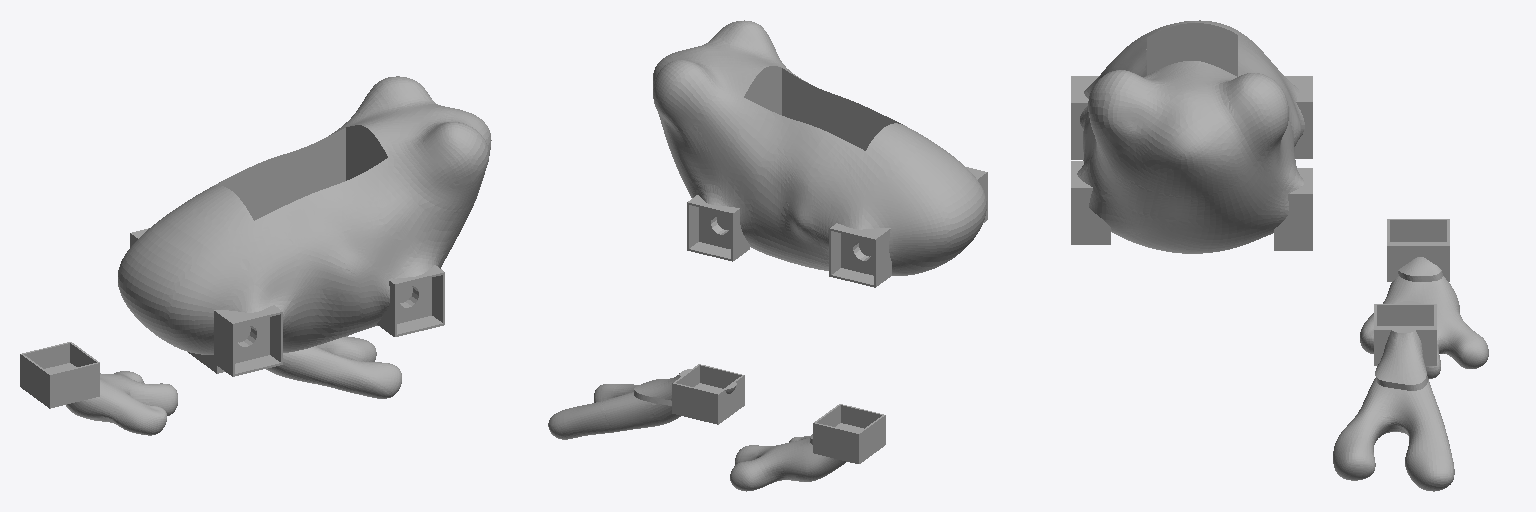
URDF robot description (FrogBot3_top-FrogBot3-z-1_bottom-FrogBot3-z-1):
<?xml version="1.0" ?>
<robot name="FrogBot3_top-FrogBot3-z-1_bottom-FrogBot3-z-1">

<material name="pla_5_percent_infill">
  <color rgba="0.700 0.700 0.700 1.000"/>
</material>

<link name="base_link">
  <inertial>
    <origin xyz="0 0 0" rpy="0 0 0"/>
    <mass value="1.5419899792307459"/>
    <inertia ixx="0.0054836076661745285" iyy="0.013703915460827342" izz="0.013742849788882953" ixy="5.961000823851627e-05" iyz="4.9944941207841843e-05" ixz="-0.0023657822822012154"/>
  </inertial>
  <visual>
    <origin xyz="0 0 0" rpy="0 0 0"/>
    <geometry>
      <mesh filename="simple_meshes/base_link.stl" scale="0.001 0.001 0.001"/>
    </geometry>
    <material name="pla_5_percent_infill"/>
  </visual>
  <collision>
    <origin xyz="0 0 0" rpy="0 0 0"/>
    <geometry>
      <mesh filename="simple_meshes/base_link.stl" scale="0.001 0.001 0.001"/>
    </geometry>
  </collision>
</link>

<link name="body_1_0_1">
  <inertial>
    <origin xyz="-0.065859 -0.113451 -0.001976" rpy="0 0 0"/>
    <mass value="0.03741674010202097"/>
    <inertia ixx="2.6069707017078113e-05" iyy="4.059220278075239e-05" izz="2.481412179690303e-05" ixy="3.034660637901384e-06" iyz="3.089286146108419e-06" ixz="-1.2106340481407895e-05"/>
  </inertial>
  <visual>
    <origin xyz="-0.065859 -0.113451 -0.001976" rpy="0 0 0"/>
    <geometry>
      <mesh filename="simple_meshes/body_1_0_1.stl" scale="0.001 0.001 0.001"/>
    </geometry>
    <material name="pla_5_percent_infill"/>
  </visual>
  <collision>
    <origin xyz="-0.065859 -0.113451 -0.001976" rpy="0 0 0"/>
    <geometry>
      <mesh filename="simple_meshes/body_1_0_1.stl" scale="0.001 0.001 0.001"/>
    </geometry>
  </collision>
</link>

<link name="body_1_1_1">
  <inertial>
    <origin xyz="0.083929 -0.113451 -0.010696" rpy="0 0 0"/>
    <mass value="0.05596785139093219"/>
    <inertia ixx="3.8950271948593905e-05" iyy="7.246335240166562e-05" izz="4.984256470758801e-05" ixy="6.240169770640493e-06" iyz="8.038428714410523e-06" ixz="-2.1240072640874686e-05"/>
  </inertial>
  <visual>
    <origin xyz="0.083929 -0.113451 -0.010696" rpy="0 0 0"/>
    <geometry>
      <mesh filename="simple_meshes/body_1_1_1.stl" scale="0.001 0.001 0.001"/>
    </geometry>
    <material name="pla_5_percent_infill"/>
  </visual>
  <collision>
    <origin xyz="0.083929 -0.113451 -0.010696" rpy="0 0 0"/>
    <geometry>
      <mesh filename="simple_meshes/body_1_1_1.stl" scale="0.001 0.001 0.001"/>
    </geometry>
  </collision>
</link>

<link name="body_1_2_1">
  <inertial>
    <origin xyz="-0.060736 0.113451 -0.005366" rpy="0 0 0"/>
    <mass value="0.03942710446627524"/>
    <inertia ixx="2.9172615536055555e-05" iyy="4.292413068544017e-05" izz="2.500179469826138e-05" ixy="-3.3746104126488653e-06" iyz="-4.505854574327371e-06" ixz="-1.2859303295323345e-05"/>
  </inertial>
  <visual>
    <origin xyz="-0.060736 0.113451 -0.005366" rpy="0 0 0"/>
    <geometry>
      <mesh filename="simple_meshes/body_1_2_1.stl" scale="0.001 0.001 0.001"/>
    </geometry>
    <material name="pla_5_percent_infill"/>
  </visual>
  <collision>
    <origin xyz="-0.060736 0.113451 -0.005366" rpy="0 0 0"/>
    <geometry>
      <mesh filename="simple_meshes/body_1_2_1.stl" scale="0.001 0.001 0.001"/>
    </geometry>
  </collision>
</link>

<link name="body_1_3_1">
  <inertial>
    <origin xyz="0.093982 0.113451 -0.005431" rpy="0 0 0"/>
    <mass value="0.055523619344930004"/>
    <inertia ixx="3.509387931941886e-05" iyy="6.109889868985115e-05" izz="4.291419328865745e-05" ixy="-4.41340806530484e-06" iyz="-6.895823467725602e-06" ixz="-1.5431870046110266e-05"/>
  </inertial>
  <visual>
    <origin xyz="0.093982 0.113451 -0.005431" rpy="0 0 0"/>
    <geometry>
      <mesh filename="simple_meshes/body_1_3_1.stl" scale="0.001 0.001 0.001"/>
    </geometry>
    <material name="pla_5_percent_infill"/>
  </visual>
  <collision>
    <origin xyz="0.093982 0.113451 -0.005431" rpy="0 0 0"/>
    <geometry>
      <mesh filename="simple_meshes/body_1_3_1.stl" scale="0.001 0.001 0.001"/>
    </geometry>
  </collision>
</link>

<link name="body_2_0_1">
  <inertial>
    <origin xyz="-0.026166 -0.164707 0.087895" rpy="0 0 0"/>
    <mass value="0.08212549482726689"/>
    <inertia ixx="6.259533117840277e-05" iyy="0.0001801046800443979" izz="0.00018989442677949447" ixy="3.5552050180814258e-06" iyz="-2.560244609915198e-06" ixz="5.428791878665448e-05"/>
  </inertial>
  <visual>
    <origin xyz="-0.026166 -0.164707 0.087895" rpy="0 0 0"/>
    <geometry>
      <mesh filename="simple_meshes/body_2_0_1.stl" scale="0.001 0.001 0.001"/>
    </geometry>
    <material name="pla_5_percent_infill"/>
  </visual>
  <collision>
    <origin xyz="-0.026166 -0.164707 0.087895" rpy="0 0 0"/>
    <geometry>
      <mesh filename="simple_meshes/body_2_0_1.stl" scale="0.001 0.001 0.001"/>
    </geometry>
  </collision>
</link>

<link name="body_2_1_1">
  <inertial>
    <origin xyz="0.127747 -0.174737 0.087895" rpy="0 0 0"/>
    <mass value="0.07037281159590891"/>
    <inertia ixx="4.372583407962708e-05" iyy="8.766579306740104e-05" izz="9.642875067244908e-05" ixy="-9.132109387501247e-06" iyz="2.7452038159905216e-06" ixz="2.745540461864958e-05"/>
  </inertial>
  <visual>
    <origin xyz="0.127747 -0.174737 0.087895" rpy="0 0 0"/>
    <geometry>
      <mesh filename="simple_meshes/body_2_1_1.stl" scale="0.001 0.001 0.001"/>
    </geometry>
    <material name="pla_5_percent_infill"/>
  </visual>
  <collision>
    <origin xyz="0.127747 -0.174737 0.087895" rpy="0 0 0"/>
    <geometry>
      <mesh filename="simple_meshes/body_2_1_1.stl" scale="0.001 0.001 0.001"/>
    </geometry>
  </collision>
</link>

<link name="body_2_2_1">
  <inertial>
    <origin xyz="-0.021708 0.167525 0.087895" rpy="0 0 0"/>
    <mass value="0.08191712210960615"/>
    <inertia ixx="6.193853795956588e-05" iyy="0.00017608128087884777" izz="0.00018585761325109248" ixy="2.2348060419751826e-06" iyz="-1.4472402590478065e-06" ixz="5.3016551632472904e-05"/>
  </inertial>
  <visual>
    <origin xyz="-0.021708 0.167525 0.087895" rpy="0 0 0"/>
    <geometry>
      <mesh filename="simple_meshes/body_2_2_1.stl" scale="0.001 0.001 0.001"/>
    </geometry>
    <material name="pla_5_percent_infill"/>
  </visual>
  <collision>
    <origin xyz="-0.021708 0.167525 0.087895" rpy="0 0 0"/>
    <geometry>
      <mesh filename="simple_meshes/body_2_2_1.stl" scale="0.001 0.001 0.001"/>
    </geometry>
  </collision>
</link>

<link name="body_2_3_1">
  <inertial>
    <origin xyz="0.128136 0.172985 0.087895" rpy="0 0 0"/>
    <mass value="0.06799611941609633"/>
    <inertia ixx="4.606854062899927e-05" iyy="8.27902615349002e-05" izz="9.597673245598931e-05" ixy="7.357173669979809e-06" iyz="-3.941744825993777e-06" ixz="2.523451447294337e-05"/>
  </inertial>
  <visual>
    <origin xyz="0.128136 0.172985 0.087895" rpy="0 0 0"/>
    <geometry>
      <mesh filename="simple_meshes/body_2_3_1.stl" scale="0.001 0.001 0.001"/>
    </geometry>
    <material name="pla_5_percent_infill"/>
  </visual>
  <collision>
    <origin xyz="0.128136 0.172985 0.087895" rpy="0 0 0"/>
    <geometry>
      <mesh filename="simple_meshes/body_2_3_1.stl" scale="0.001 0.001 0.001"/>
    </geometry>
  </collision>
</link>

<joint name="joint_1_0" type="revolute">
  <origin xyz="0.065859 0.113451 0.001976" rpy="0 0 0"/>
  <parent link="base_link"/>
  <child link="body_1_0_1"/>
  <axis xyz="0.0 1.0 0.0"/>
  <limit upper="1.2" lower="-1.2" effort="3.8" velocity="5.4"/>
</joint>
<transmission name="joint_1_0_tran">
  <type>transmission_interface/SimpleTransmission</type>
  <joint name="joint_1_0">
    <hardwareInterface>PositionJointInterface</hardwareInterface>
  </joint>
  <actuator name="joint_1_0_actr">
    <hardwareInterface>PositionJointInterface</hardwareInterface>
    <mechanicalReduction>1</mechanicalReduction>
  </actuator>
</transmission>

<joint name="joint_1_1" type="revolute">
  <origin xyz="-0.083929 0.113451 0.010696" rpy="0 0 0"/>
  <parent link="base_link"/>
  <child link="body_1_1_1"/>
  <axis xyz="0.0 1.0 0.0"/>
  <limit upper="1.2" lower="-1.2" effort="3.8" velocity="5.4"/>
</joint>
<transmission name="joint_1_1_tran">
  <type>transmission_interface/SimpleTransmission</type>
  <joint name="joint_1_1">
    <hardwareInterface>PositionJointInterface</hardwareInterface>
  </joint>
  <actuator name="joint_1_1_actr">
    <hardwareInterface>PositionJointInterface</hardwareInterface>
    <mechanicalReduction>1</mechanicalReduction>
  </actuator>
</transmission>

<joint name="joint_1_2" type="revolute">
  <origin xyz="0.060736 -0.113451 0.005366" rpy="0 0 0"/>
  <parent link="base_link"/>
  <child link="body_1_2_1"/>
  <axis xyz="0.0 1.0 0.0"/>
  <limit upper="1.2" lower="-1.2" effort="3.8" velocity="5.4"/>
</joint>
<transmission name="joint_1_2_tran">
  <type>transmission_interface/SimpleTransmission</type>
  <joint name="joint_1_2">
    <hardwareInterface>PositionJointInterface</hardwareInterface>
  </joint>
  <actuator name="joint_1_2_actr">
    <hardwareInterface>PositionJointInterface</hardwareInterface>
    <mechanicalReduction>1</mechanicalReduction>
  </actuator>
</transmission>

<joint name="joint_1_3" type="revolute">
  <origin xyz="-0.093982 -0.113451 0.005431" rpy="0 0 0"/>
  <parent link="base_link"/>
  <child link="body_1_3_1"/>
  <axis xyz="0.0 1.0 0.0"/>
  <limit upper="1.2" lower="-1.2" effort="3.8" velocity="5.4"/>
</joint>
<transmission name="joint_1_3_tran">
  <type>transmission_interface/SimpleTransmission</type>
  <joint name="joint_1_3">
    <hardwareInterface>PositionJointInterface</hardwareInterface>
  </joint>
  <actuator name="joint_1_3_actr">
    <hardwareInterface>PositionJointInterface</hardwareInterface>
    <mechanicalReduction>1</mechanicalReduction>
  </actuator>
</transmission>

<joint name="joint_2_0" type="revolute">
  <origin xyz="-0.039693 0.051256 -0.089871" rpy="0 0 0"/>
  <parent link="body_1_0_1"/>
  <child link="body_2_0_1"/>
  <axis xyz="0.0 0.0 1.0"/>
  <limit upper="1.2" lower="-1.2" effort="3.8" velocity="5.4"/>
</joint>
<transmission name="joint_2_0_tran">
  <type>transmission_interface/SimpleTransmission</type>
  <joint name="joint_2_0">
    <hardwareInterface>PositionJointInterface</hardwareInterface>
  </joint>
  <actuator name="joint_2_0_actr">
    <hardwareInterface>PositionJointInterface</hardwareInterface>
    <mechanicalReduction>1</mechanicalReduction>
  </actuator>
</transmission>

<joint name="joint_2_1" type="revolute">
  <origin xyz="-0.043818 0.061286 -0.098591" rpy="0 0 0"/>
  <parent link="body_1_1_1"/>
  <child link="body_2_1_1"/>
  <axis xyz="0.0 0.0 1.0"/>
  <limit upper="1.2" lower="-1.2" effort="3.8" velocity="5.4"/>
</joint>
<transmission name="joint_2_1_tran">
  <type>transmission_interface/SimpleTransmission</type>
  <joint name="joint_2_1">
    <hardwareInterface>PositionJointInterface</hardwareInterface>
  </joint>
  <actuator name="joint_2_1_actr">
    <hardwareInterface>PositionJointInterface</hardwareInterface>
    <mechanicalReduction>1</mechanicalReduction>
  </actuator>
</transmission>

<joint name="joint_2_2" type="revolute">
  <origin xyz="-0.039028 -0.054074 -0.093261" rpy="0 0 0"/>
  <parent link="body_1_2_1"/>
  <child link="body_2_2_1"/>
  <axis xyz="0.0 0.0 1.0"/>
  <limit upper="1.2" lower="-1.2" effort="3.8" velocity="5.4"/>
</joint>
<transmission name="joint_2_2_tran">
  <type>transmission_interface/SimpleTransmission</type>
  <joint name="joint_2_2">
    <hardwareInterface>PositionJointInterface</hardwareInterface>
  </joint>
  <actuator name="joint_2_2_actr">
    <hardwareInterface>PositionJointInterface</hardwareInterface>
    <mechanicalReduction>1</mechanicalReduction>
  </actuator>
</transmission>

<joint name="joint_2_3" type="revolute">
  <origin xyz="-0.034154 -0.059534 -0.093326" rpy="0 0 0"/>
  <parent link="body_1_3_1"/>
  <child link="body_2_3_1"/>
  <axis xyz="0.0 0.0 1.0"/>
  <limit upper="1.2" lower="-1.2" effort="3.8" velocity="5.4"/>
</joint>
<transmission name="joint_2_3_tran">
  <type>transmission_interface/SimpleTransmission</type>
  <joint name="joint_2_3">
    <hardwareInterface>PositionJointInterface</hardwareInterface>
  </joint>
  <actuator name="joint_2_3_actr">
    <hardwareInterface>PositionJointInterface</hardwareInterface>
    <mechanicalReduction>1</mechanicalReduction>
  </actuator>
</transmission>

</robot>

--- Render facts (derived) ---
Views: 3 orthographic renders of the robot side by side, from view 1: azimuth 30°, elevation 25°; view 2: azimuth 150°, elevation 25°; view 3: azimuth 270°, elevation 25°.
Robot: FrogBot3_top-FrogBot3-z-1_bottom-FrogBot3-z-1 — 9 links, 8 joints (8 revolute); root link base_link; default pose: all joints at 0.
Links seen in each view (by area): view 1: base_link, body_2_1_1, body_2_0_1; view 2: base_link, body_2_0_1, body_2_1_1; view 3: base_link, body_2_0_1, body_2_1_1.
Boxes of the visible links, x1,y1,x2,y2 form: base_link: [118, 76, 491, 376]; body_2_1_1: [20, 342, 177, 435]; body_2_0_1: [188, 336, 401, 398]; base_link: [653, 20, 987, 287]; body_2_0_1: [548, 364, 744, 439]; body_2_1_1: [730, 404, 885, 491]; base_link: [1071, 20, 1312, 253]; body_2_0_1: [1333, 301, 1454, 491]; body_2_1_1: [1360, 219, 1488, 378].
Size in the robot's own frame: 0.339 by 0.3223 by 0.3324 metres.
Meshes: 9 distinct files referenced, 3 mesh visuals loaded (3 binary STL); not drawn: 6 (reference not matched to a file when rendering).